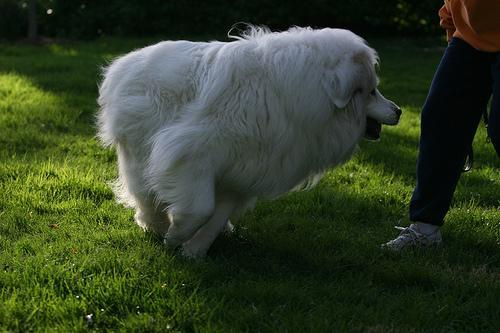Great_Pyrenees: (96, 26, 404, 257)
